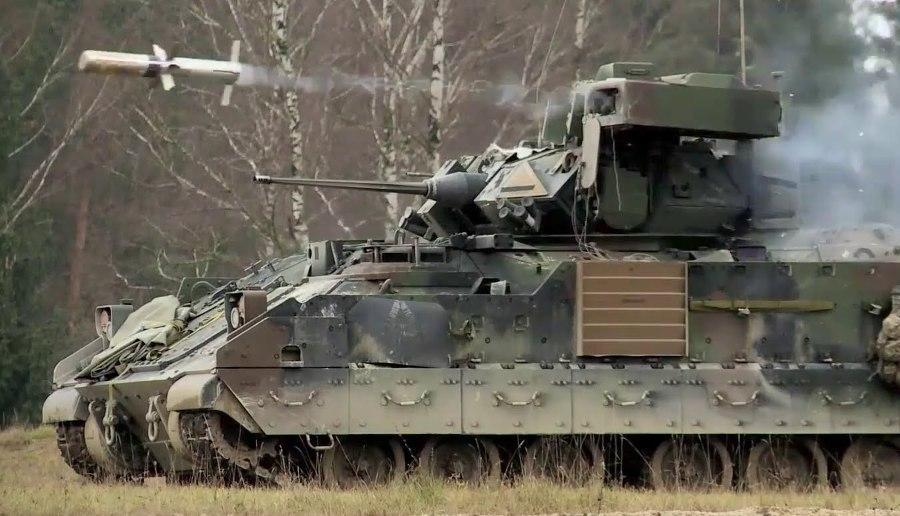MIL_IFV: (42, 60, 898, 503)
